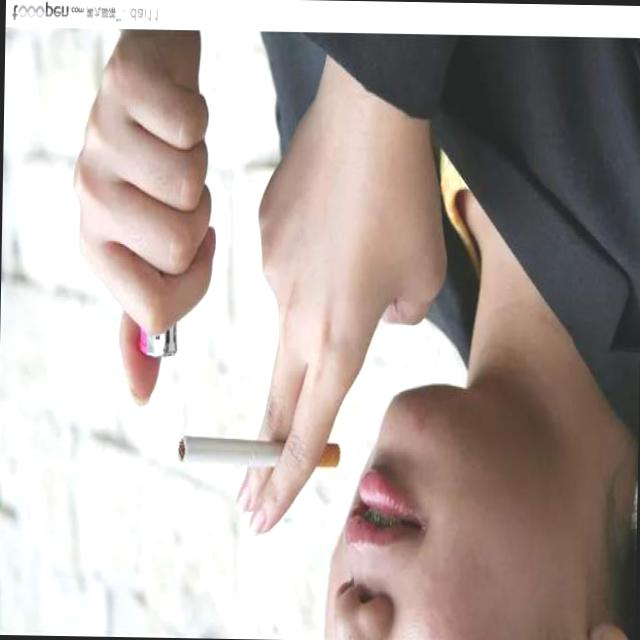smoke: (175, 437, 278, 467)
